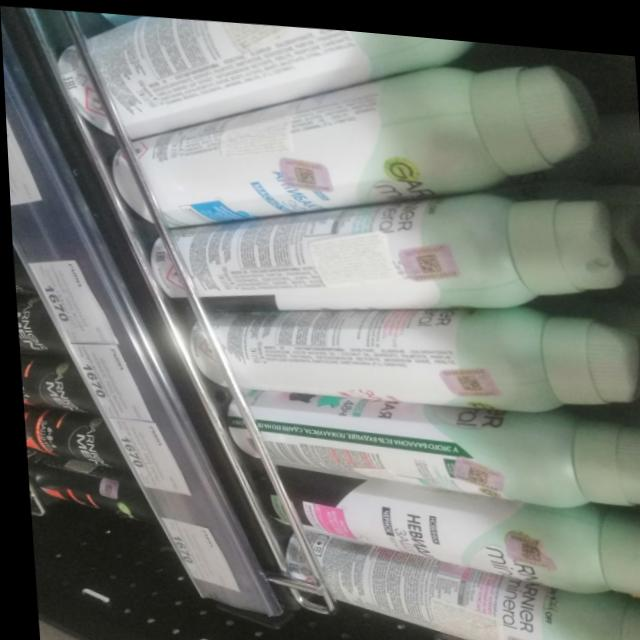datamatrix: (412, 245, 441, 269), (452, 366, 480, 385), (460, 457, 485, 477), (290, 162, 316, 180), (515, 534, 537, 553), (513, 636, 536, 640)
